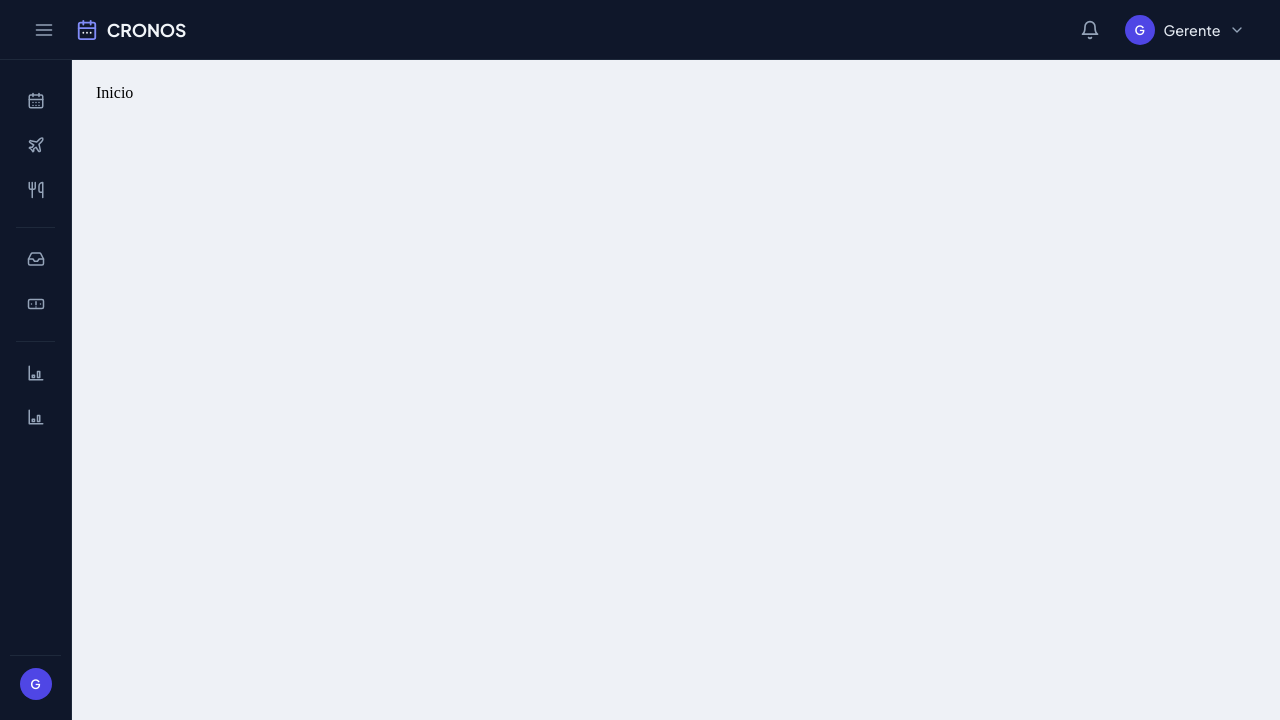
Scenario: Layout Mis tareas navigation › expande y vuelve a contraer el menú lateral desde el botón de menú de la barra superior
The width and height of the screenshot is (1280, 720).
Click the button named "Expandir menú" at (44, 30), box [24,10,64,50]
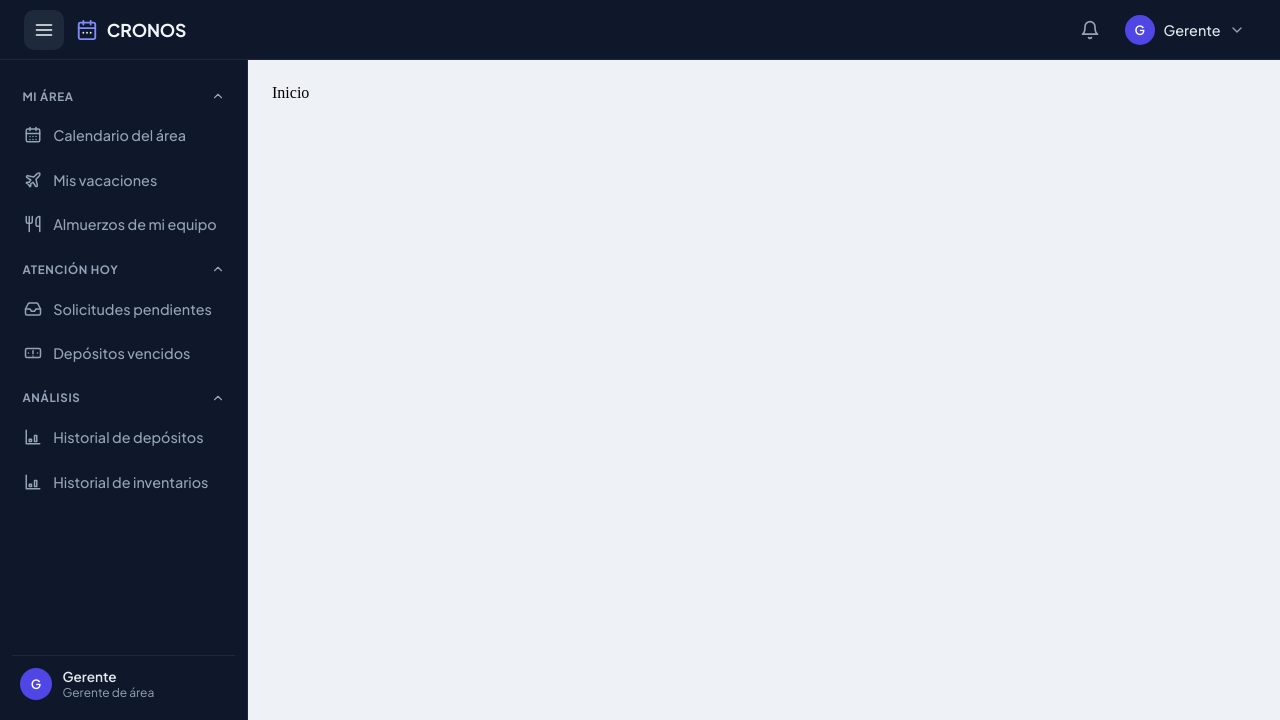
Result: the button named "Contraer menú" is expanded
Click the button named "Contraer menú" at (44, 30), box [24,10,64,50]
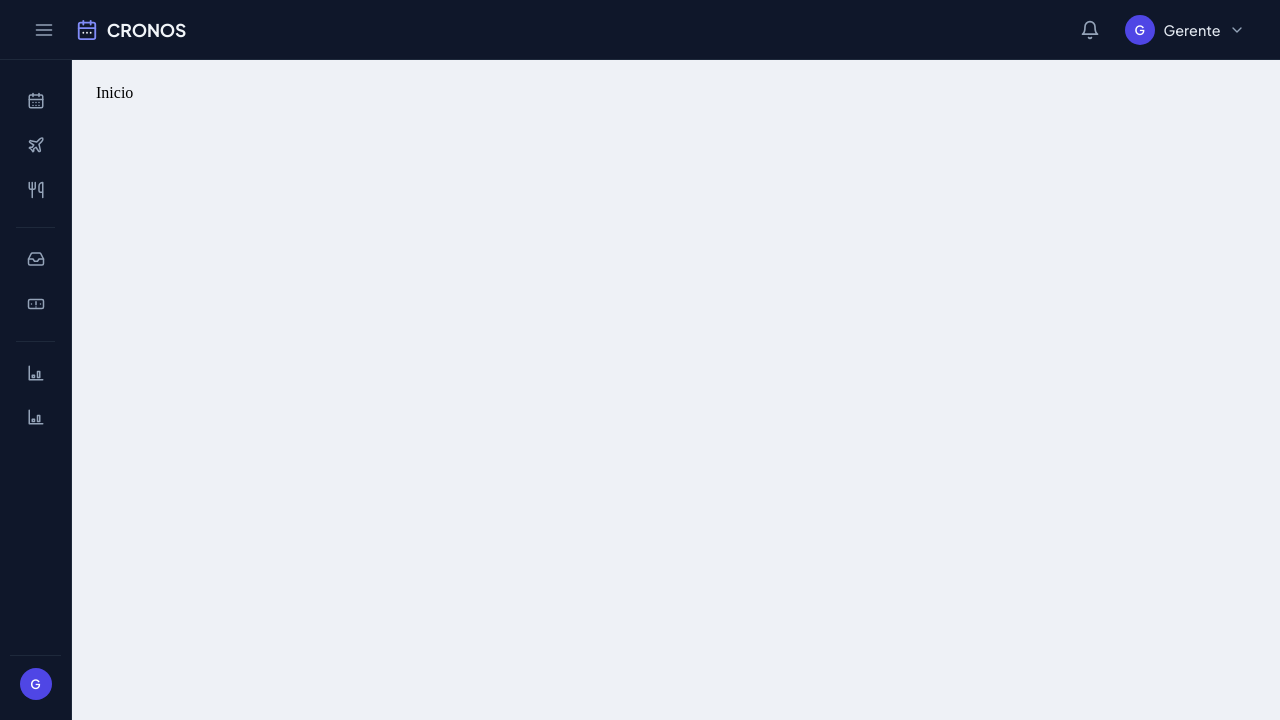
Result: the element with id "menu-lateral" has class "sidebar-collapsed" at [0,60,72,719]
